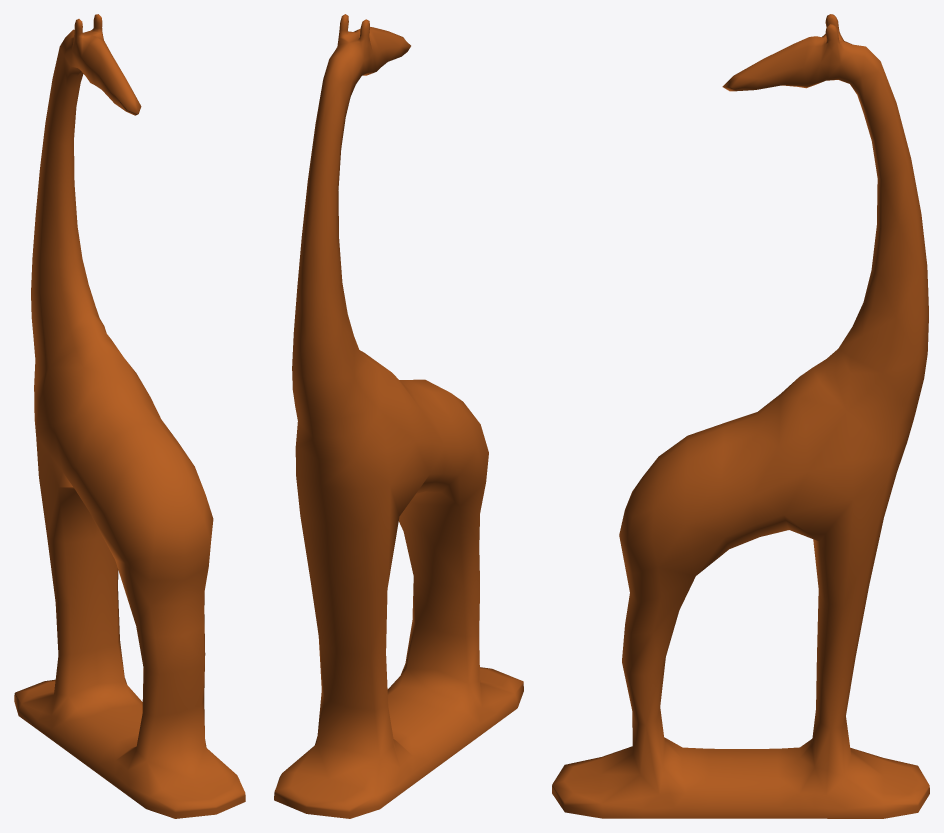
The model's file is giraffe-obj.obj.
The picture shows the model from 3 angles, left to right: view 1: azimuth 30°, elevation 25°; view 2: azimuth 150°, elevation 25°; view 3: azimuth 270°, elevation 25°; orthographic projection. The views are drawn at different scales.
Parts seen in each view (by area): view 1: zurafa_biblo; view 2: zurafa_biblo; view 3: zurafa_biblo.
Part boxes in pixels (bbox=[...]): zurafa_biblo: bbox=[14, 14, 245, 818]; zurafa_biblo: bbox=[274, 14, 523, 818]; zurafa_biblo: bbox=[552, 14, 929, 818].
Bounding box in the file's own units: 28.77 × 201 × 88.83.
